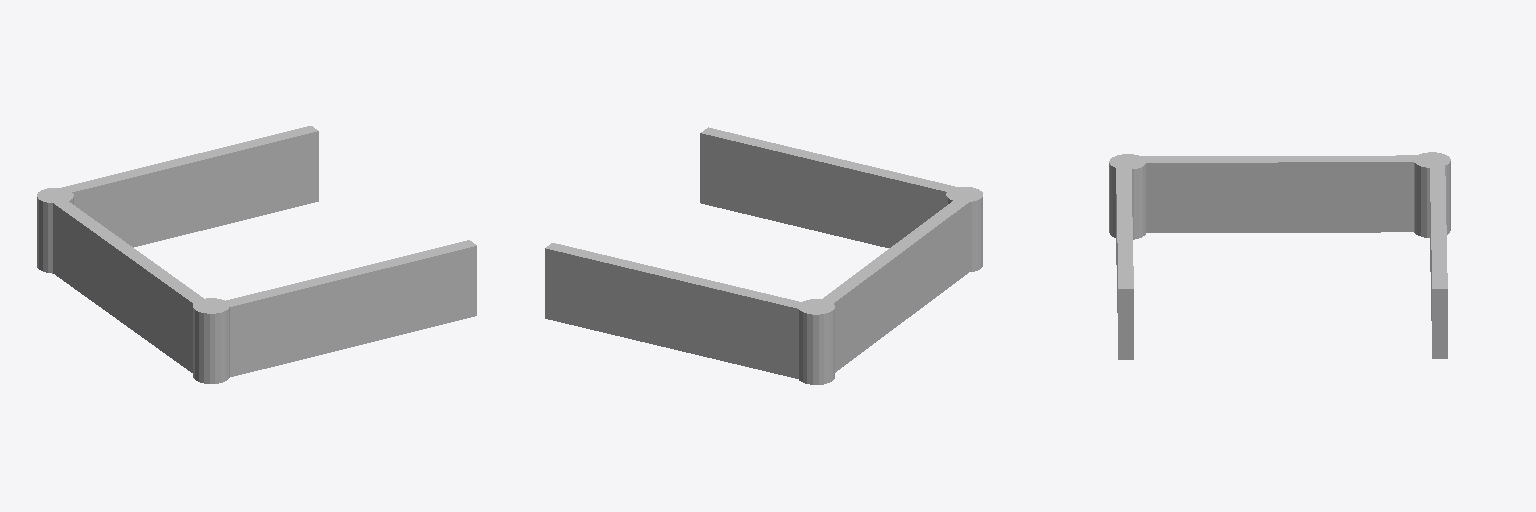
File: Walls7.obj
3 views of the same model, side by side, from view 1: azimuth 30°, elevation 25°; view 2: azimuth 150°, elevation 25°; view 3: azimuth 270°, elevation 25° (orthographic).
Parts seen in each view (by area): view 1: polySurface69; view 2: polySurface69; view 3: polySurface69.
Part boxes in pixels (x1,y1,x2,y2): polySurface69: (37, 126, 476, 383); polySurface69: (545, 127, 982, 384); polySurface69: (1109, 152, 1450, 359).
Size of the model in its own units: 20.91 by 5 by 22.